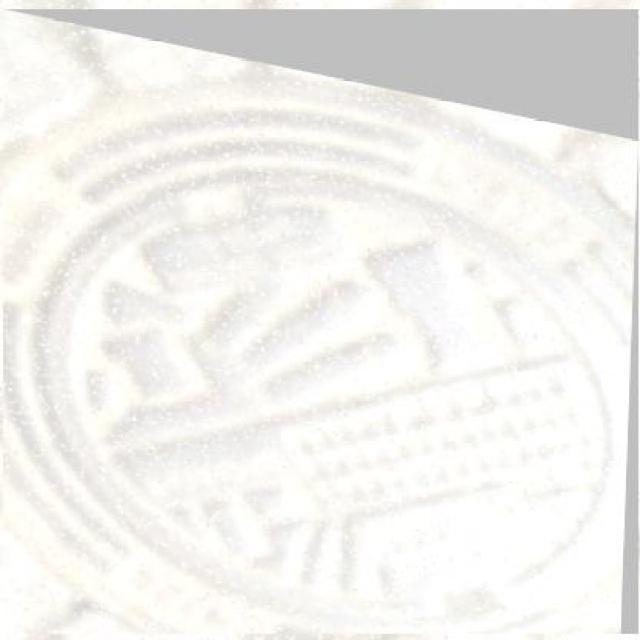Manhole: (1, 8, 638, 634)
